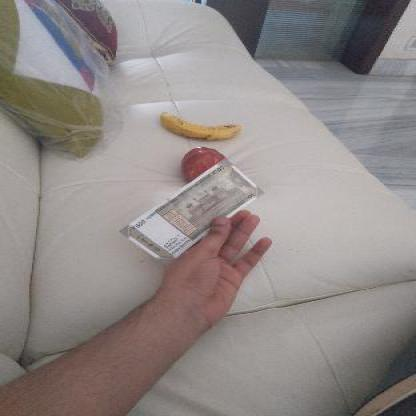New500Back: (117, 159, 256, 253)
